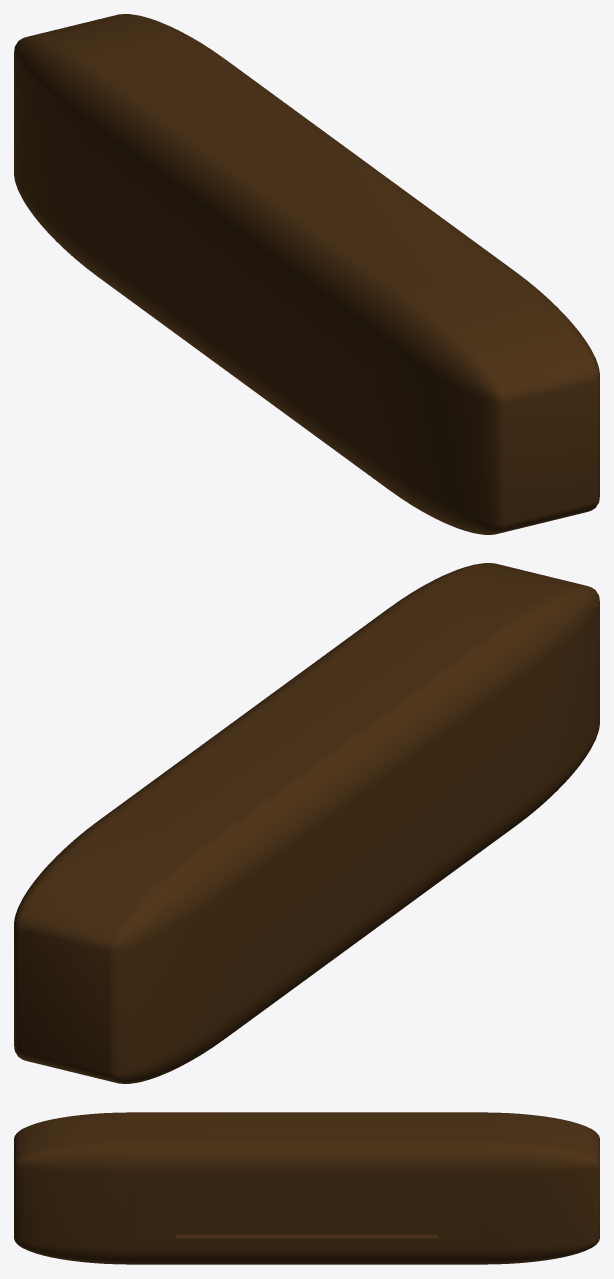
The model's file is Button only.fbx.
3 renders of one model, top to bottom at view 1: azimuth 30°, elevation 25°; view 2: azimuth 150°, elevation 25°; view 3: azimuth 270°, elevation 25°, orthographic. The views are drawn at different scales.
Visible parts, largest first — view 1: Cube; view 2: Cube; view 3: Cube.
Boxes of the visible parts, x1,y1,x2,y2 form: Cube: [14, 14, 599, 534]; Cube: [14, 563, 599, 1083]; Cube: [14, 1112, 599, 1264].
Size of the model in its own units: 29.45 by 37.54 by 163.
